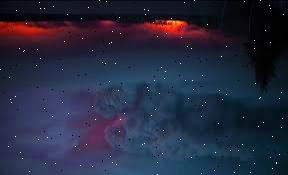fire: (148, 16, 194, 33), (1, 19, 32, 37)
